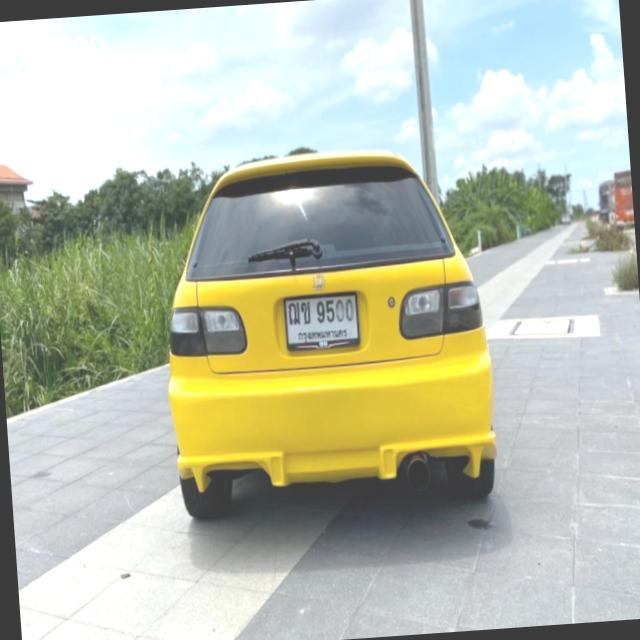license_plate: (281, 290, 362, 355)
